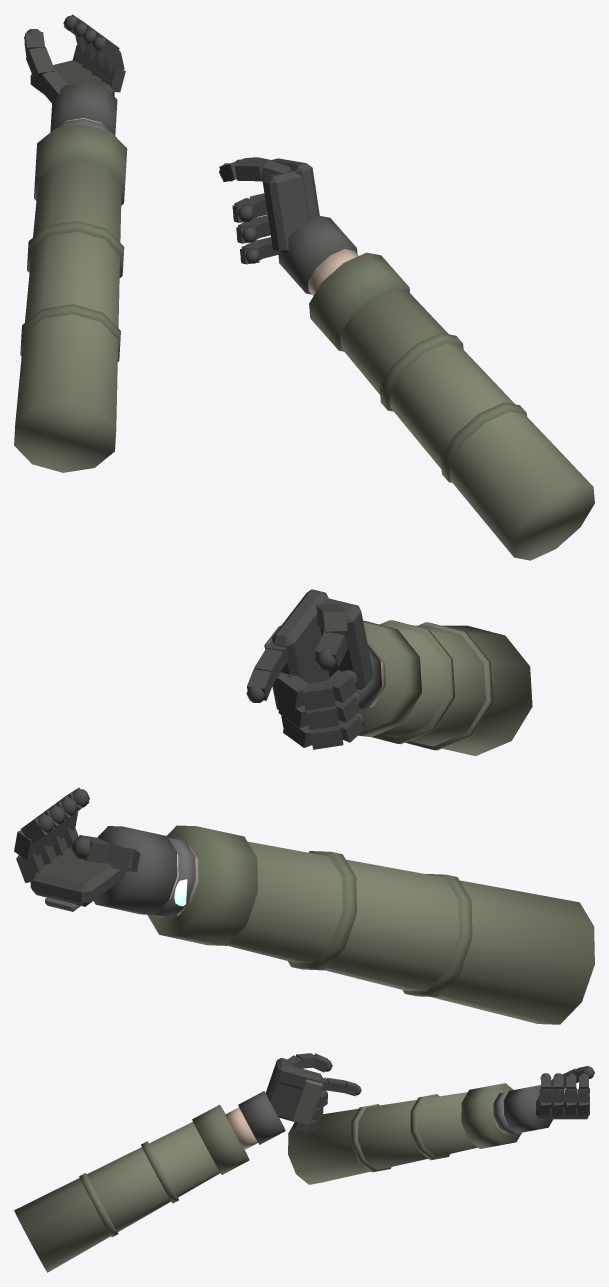
Rendered from hands_plasma_cannon.glb.
3 views of the same model, one above another, from view 1: azimuth 30°, elevation 25°; view 2: azimuth 150°, elevation 25°; view 3: azimuth 270°, elevation 25° (orthographic). The views are drawn at different scales.
Visible parts, largest first — view 1: Hands_plasma_cannon, HandL; view 2: HandL, Hands_plasma_cannon; view 3: Hands_plasma_cannon, HandL.
Part boxes in pixels (bbox=[...]): Hands_plasma_cannon: bbox=[219, 157, 594, 560]; HandL: bbox=[14, 14, 127, 472]; HandL: bbox=[14, 787, 594, 1024]; Hands_plasma_cannon: bbox=[246, 589, 532, 756]; Hands_plasma_cannon: bbox=[14, 1053, 361, 1272]; HandL: bbox=[288, 1065, 594, 1184].
Size of the model in its own units: 0.4433 by 0.3245 by 0.9169.
